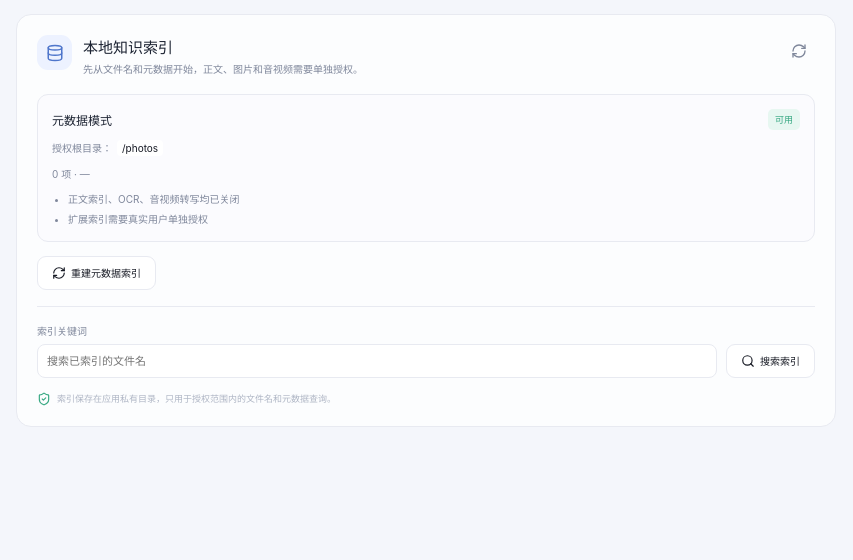
Test: local knowledge index panel › rebuilds the local index and searches names without reading file bodies
Click the button "重建元数据索引" at (96, 272), box [37,256,156,290]
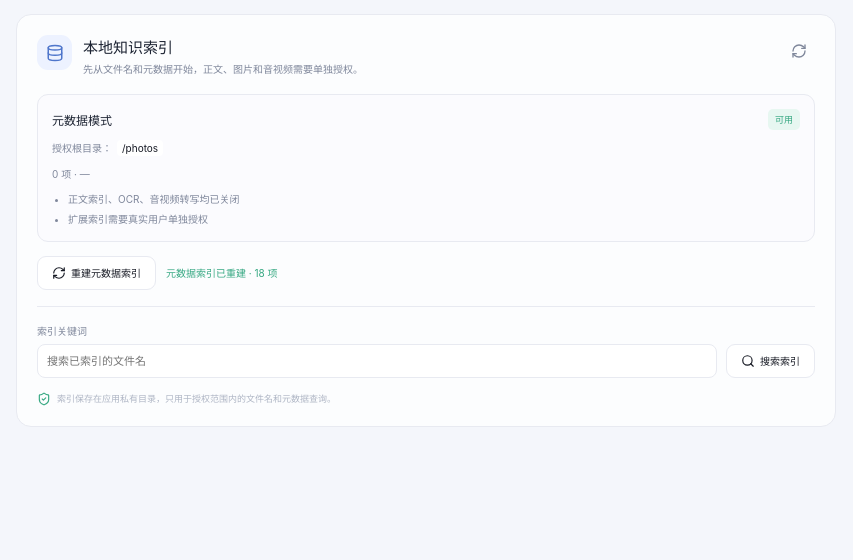
Expected: the text "元数据索引已重建 · 18 项" is shown, [166,265,278,280]
Type "notes" into the field labelled "索引关键词" at (377, 360), box [37,344,717,378]
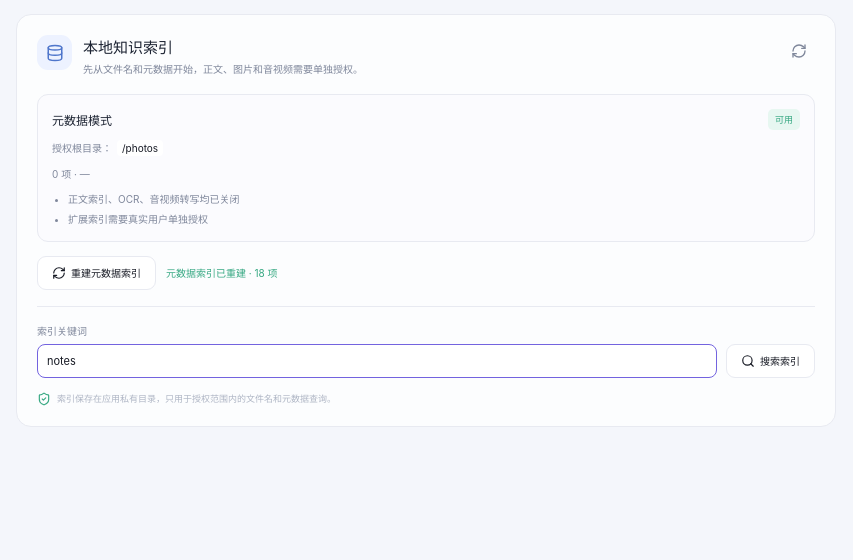
Click the button "搜索索引" at (770, 360), box [726,344,815,378]
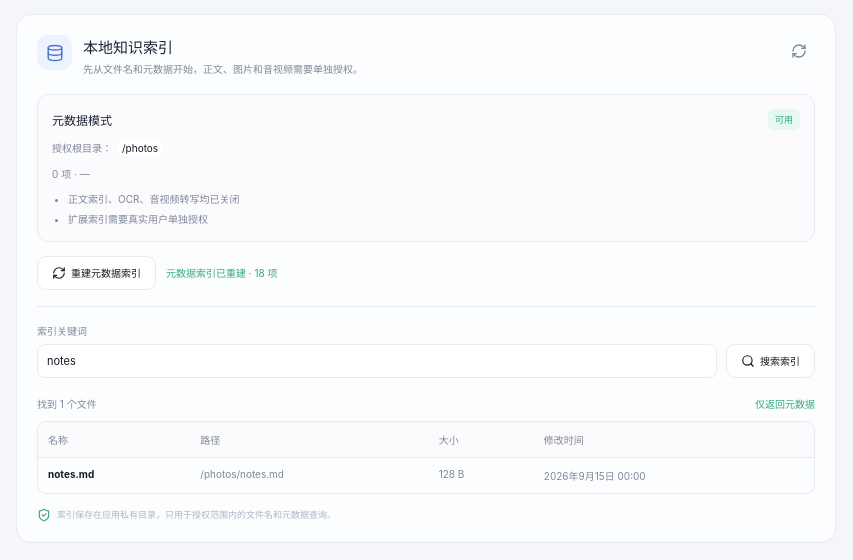
Expected: the text "notes.md" is shown, [48,468,94,480]
